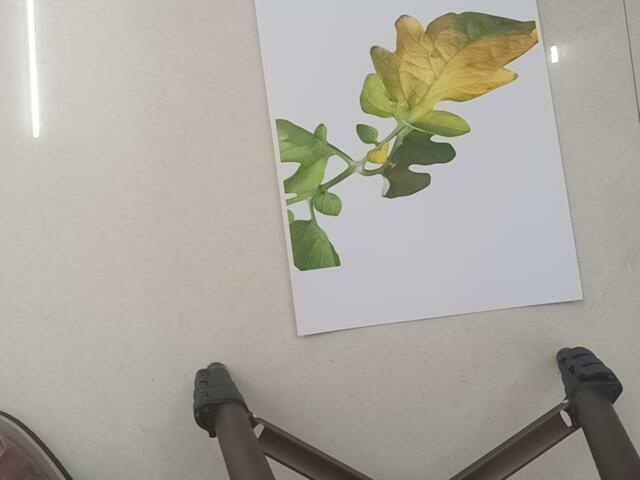Tomamto_Yellow_Disease: (275, 14, 552, 267)
